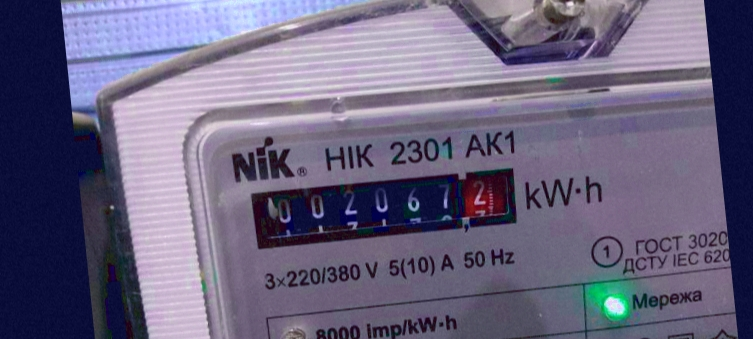0: (273, 195, 294, 226), (369, 183, 390, 213), (307, 190, 327, 220)
2: (468, 176, 489, 207), (340, 186, 359, 217)
6: (403, 183, 423, 214)
7: (435, 180, 454, 211)
screen: (235, 152, 534, 263)
